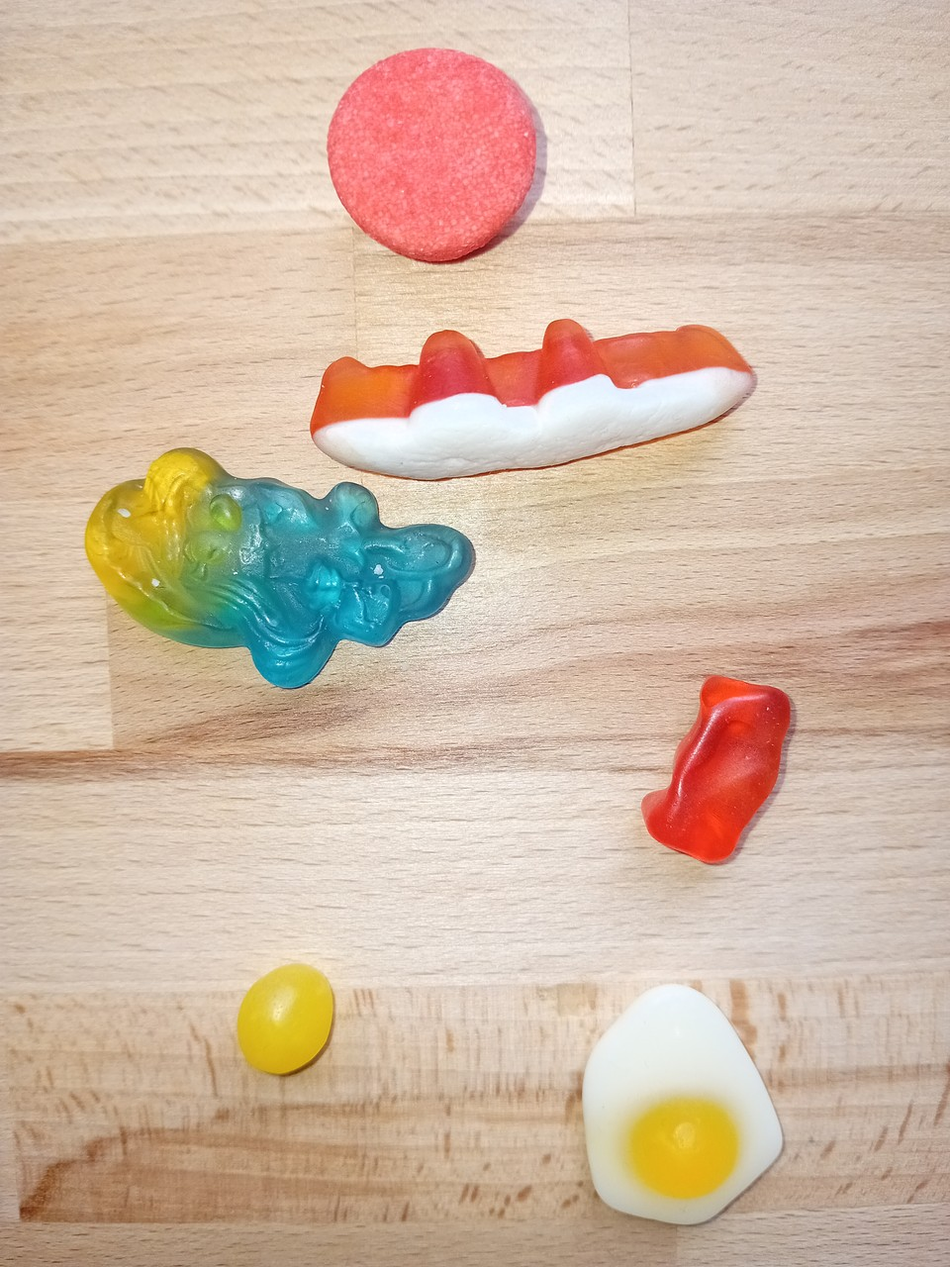crocodile_orange: (306, 310, 759, 488)
dragibus_jaune: (230, 961, 345, 1076)
ourson_blanc: (578, 981, 786, 1233)
ourson_orangeFonce: (639, 673, 801, 871)
schtroumpf_bleu-jaune: (79, 446, 484, 693)
tagada_fraise: (322, 41, 540, 268)
